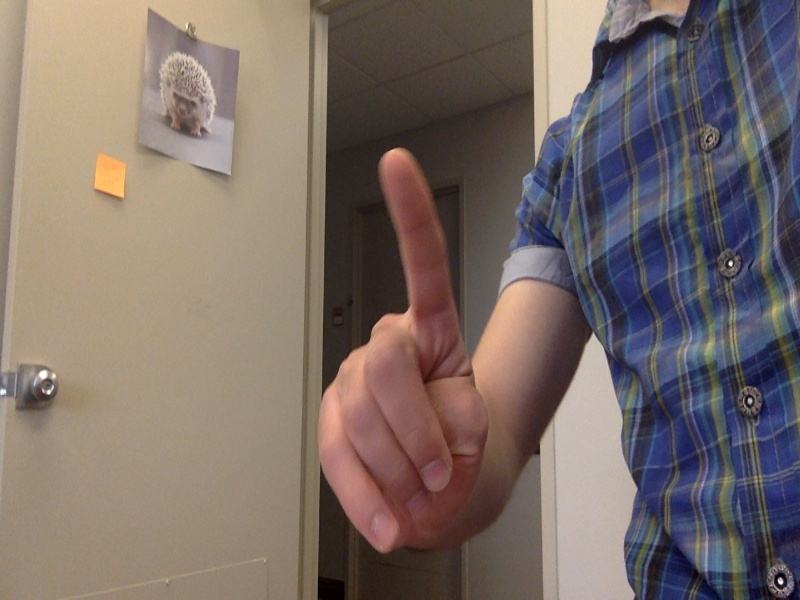1-hand: (294, 145, 480, 556)
